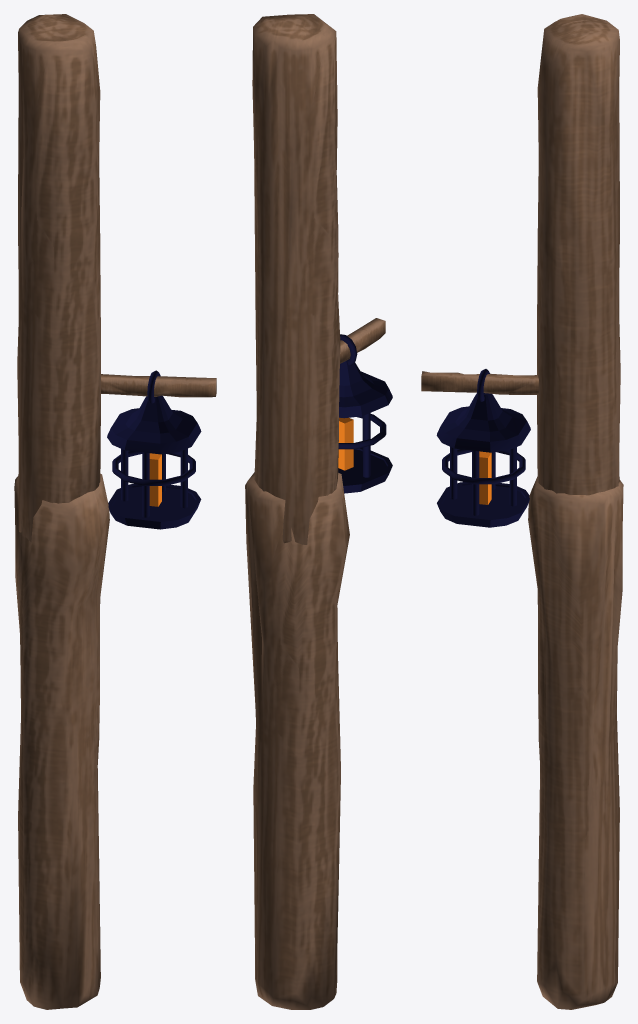
The model's file is SM_rod_lantern.fbx.
The picture shows the model from 3 angles, left to right: view 1: azimuth 90°, elevation 25°; view 2: azimuth 150°, elevation 25°; view 3: azimuth 270°, elevation 25°; orthographic projection.
Parts seen in each view (by area): view 1: rod_lantern; view 2: rod_lantern; view 3: rod_lantern.
Boxes of the visible parts, bbox=[...] form: rod_lantern: bbox=[14, 14, 216, 1009]; rod_lantern: bbox=[245, 14, 392, 1009]; rod_lantern: bbox=[421, 14, 623, 1009].
Bounding box in the file's own units: 41.8 × 476 × 89.64.
